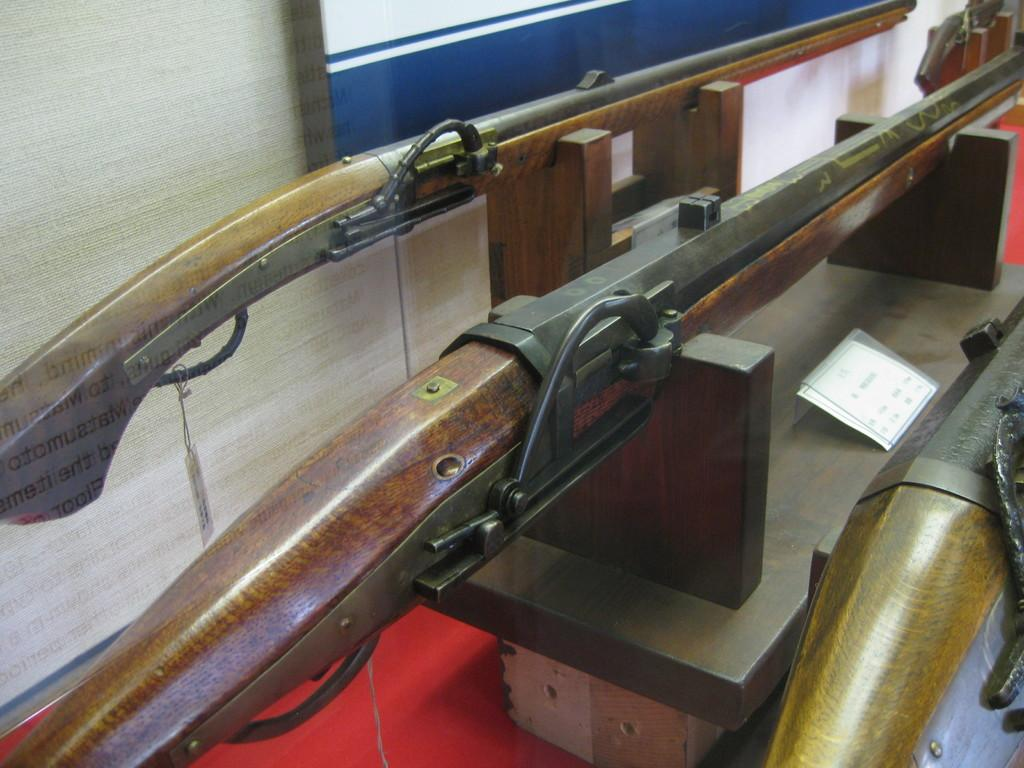Rifle: (0, 43, 1023, 767), (0, 0, 916, 526), (737, 300, 1023, 767)
